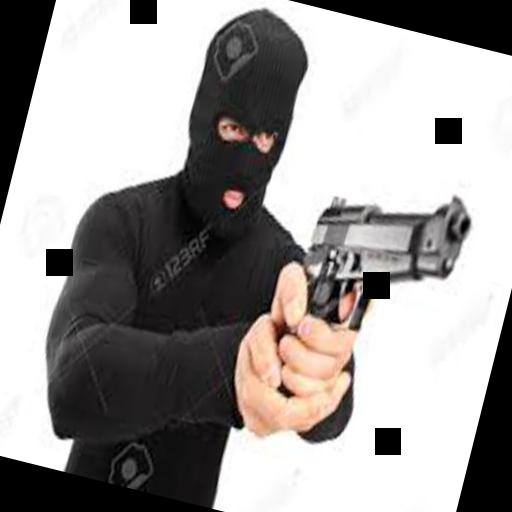Handgun: (250, 148, 478, 424)
